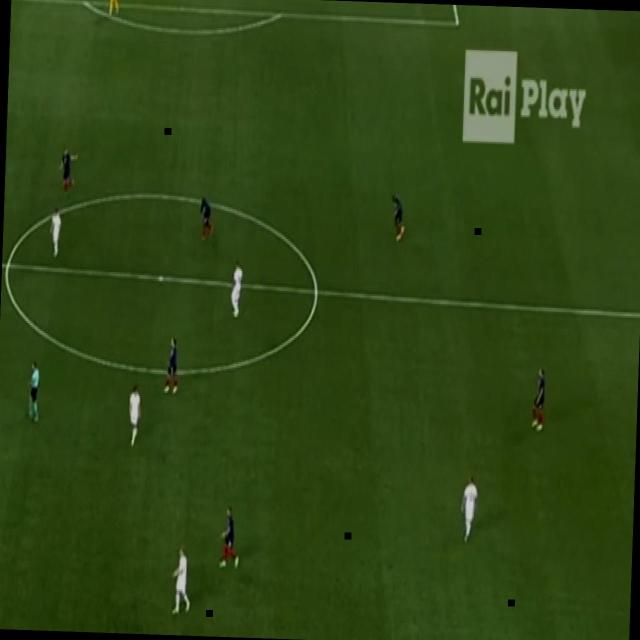player-white: (168, 543, 194, 619), (217, 503, 243, 571), (459, 472, 480, 546), (55, 144, 81, 202), (162, 334, 182, 398), (530, 362, 548, 432), (125, 384, 143, 452), (227, 257, 246, 321), (25, 359, 42, 429), (385, 192, 407, 246), (194, 193, 216, 244), (45, 206, 64, 261), (106, 0, 121, 16)
